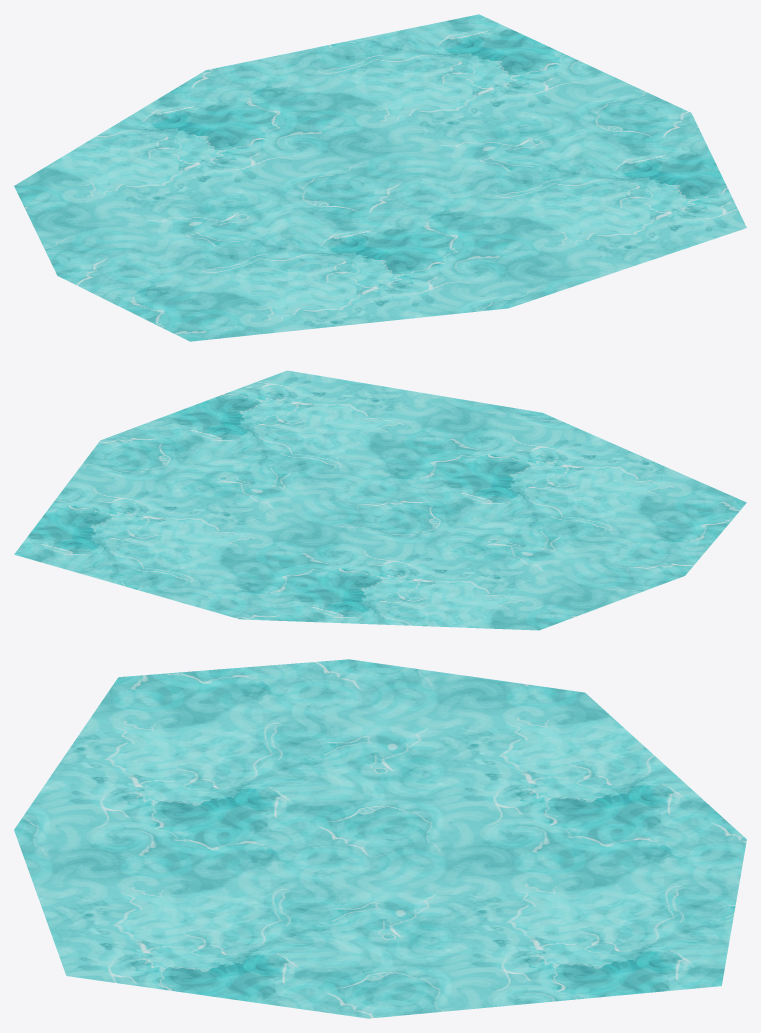
The model's file is s0_Water_Pond_01__1__01.glb.
3 views of the same model, one above another, from view 1: azimuth 30°, elevation 25°; view 2: azimuth 150°, elevation 25°; view 3: azimuth 270°, elevation 25° (orthographic). The views are drawn at different scales.
Parts seen in each view (by area): view 1: node_Water_Pond_01 (1); view 2: node_Water_Pond_01 (1); view 3: node_Water_Pond_01 (1).
Part boxes in pixels (x1,y1,x2,y2): node_Water_Pond_01 (1): (14, 14, 746, 341); node_Water_Pond_01 (1): (14, 370, 746, 630); node_Water_Pond_01 (1): (14, 659, 746, 1018).
Size of the model in its own units: 14.05 by 0 by 12.11.
1 material, 1 textured.
